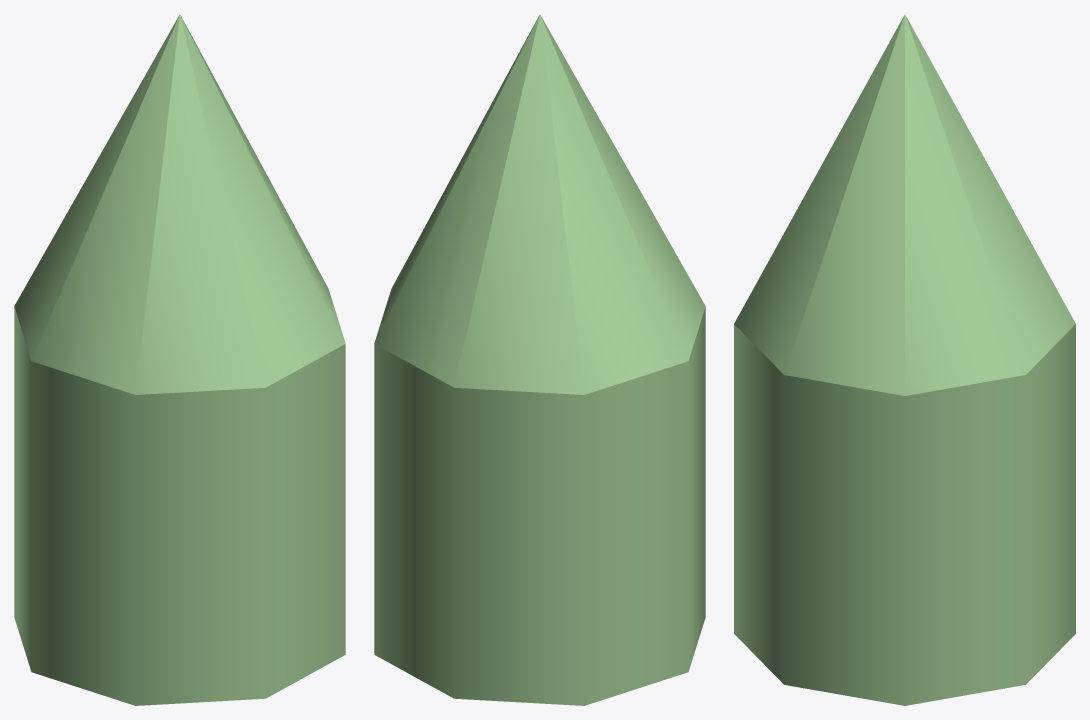
The model's file is tower.glb.
The picture shows the model from 3 angles, left to right: view 1: azimuth 30°, elevation 25°; view 2: azimuth 150°, elevation 25°; view 3: azimuth 270°, elevation 25°; orthographic projection.
Parts seen in each view (by area): view 1: cylinder, cone; view 2: cylinder, cone; view 3: cylinder, cone.
Part boxes in pixels (x1=…): cylinder: x1=14, y1=307, x2=345, y2=705; cone: x1=14, y1=14, x2=345, y2=394; cylinder: x1=374, y1=307, x2=705, y2=705; cone: x1=374, y1=14, x2=705, y2=394; cylinder: x1=734, y1=324, x2=1075, y2=705; cone: x1=734, y1=14, x2=1075, y2=395.
Size of the model in its own units: 2 by 4 by 2.
